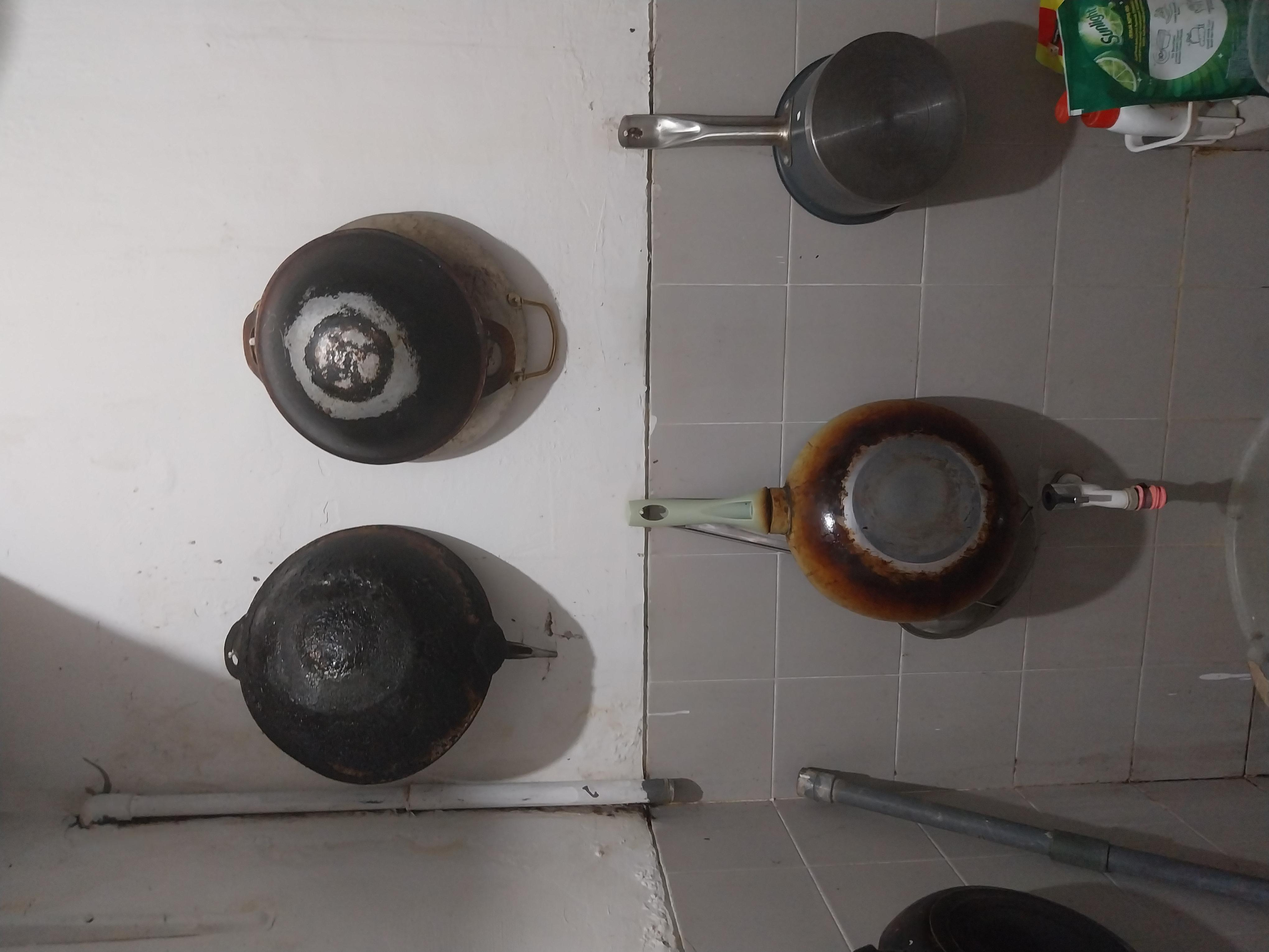pan: (392, 466, 850, 790), (158, 141, 647, 417), (584, 153, 1028, 404), (887, 459, 1250, 743), (0, 639, 90, 845)
